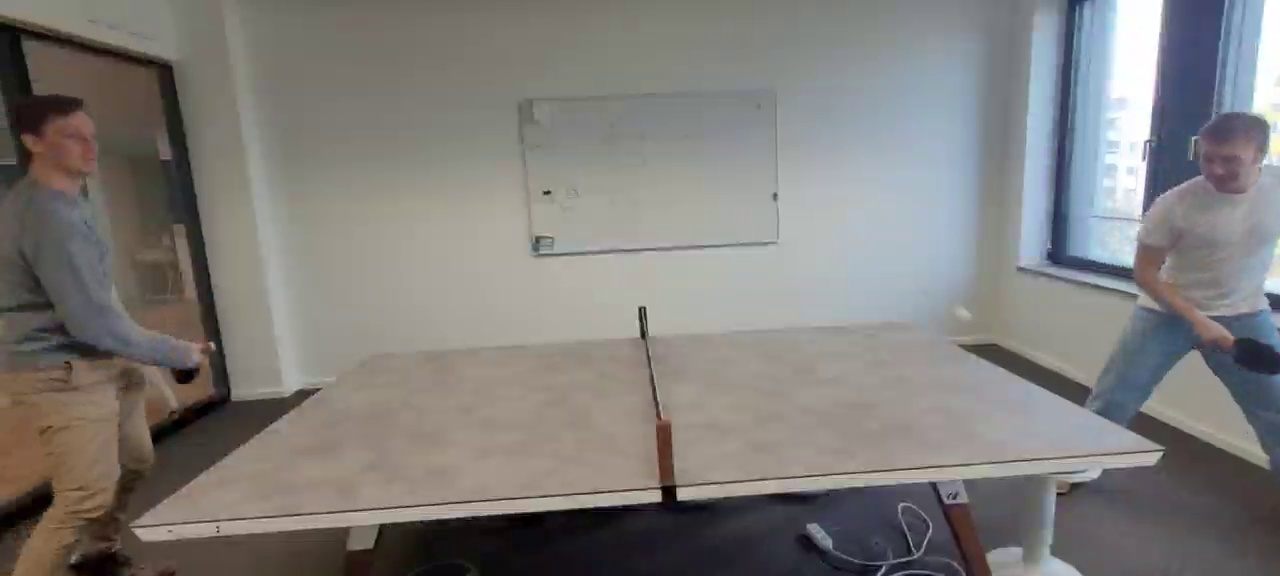1: (1230, 337, 1280, 375)
2: (952, 305, 973, 323)
ttplatte: (165, 325, 1201, 528)
